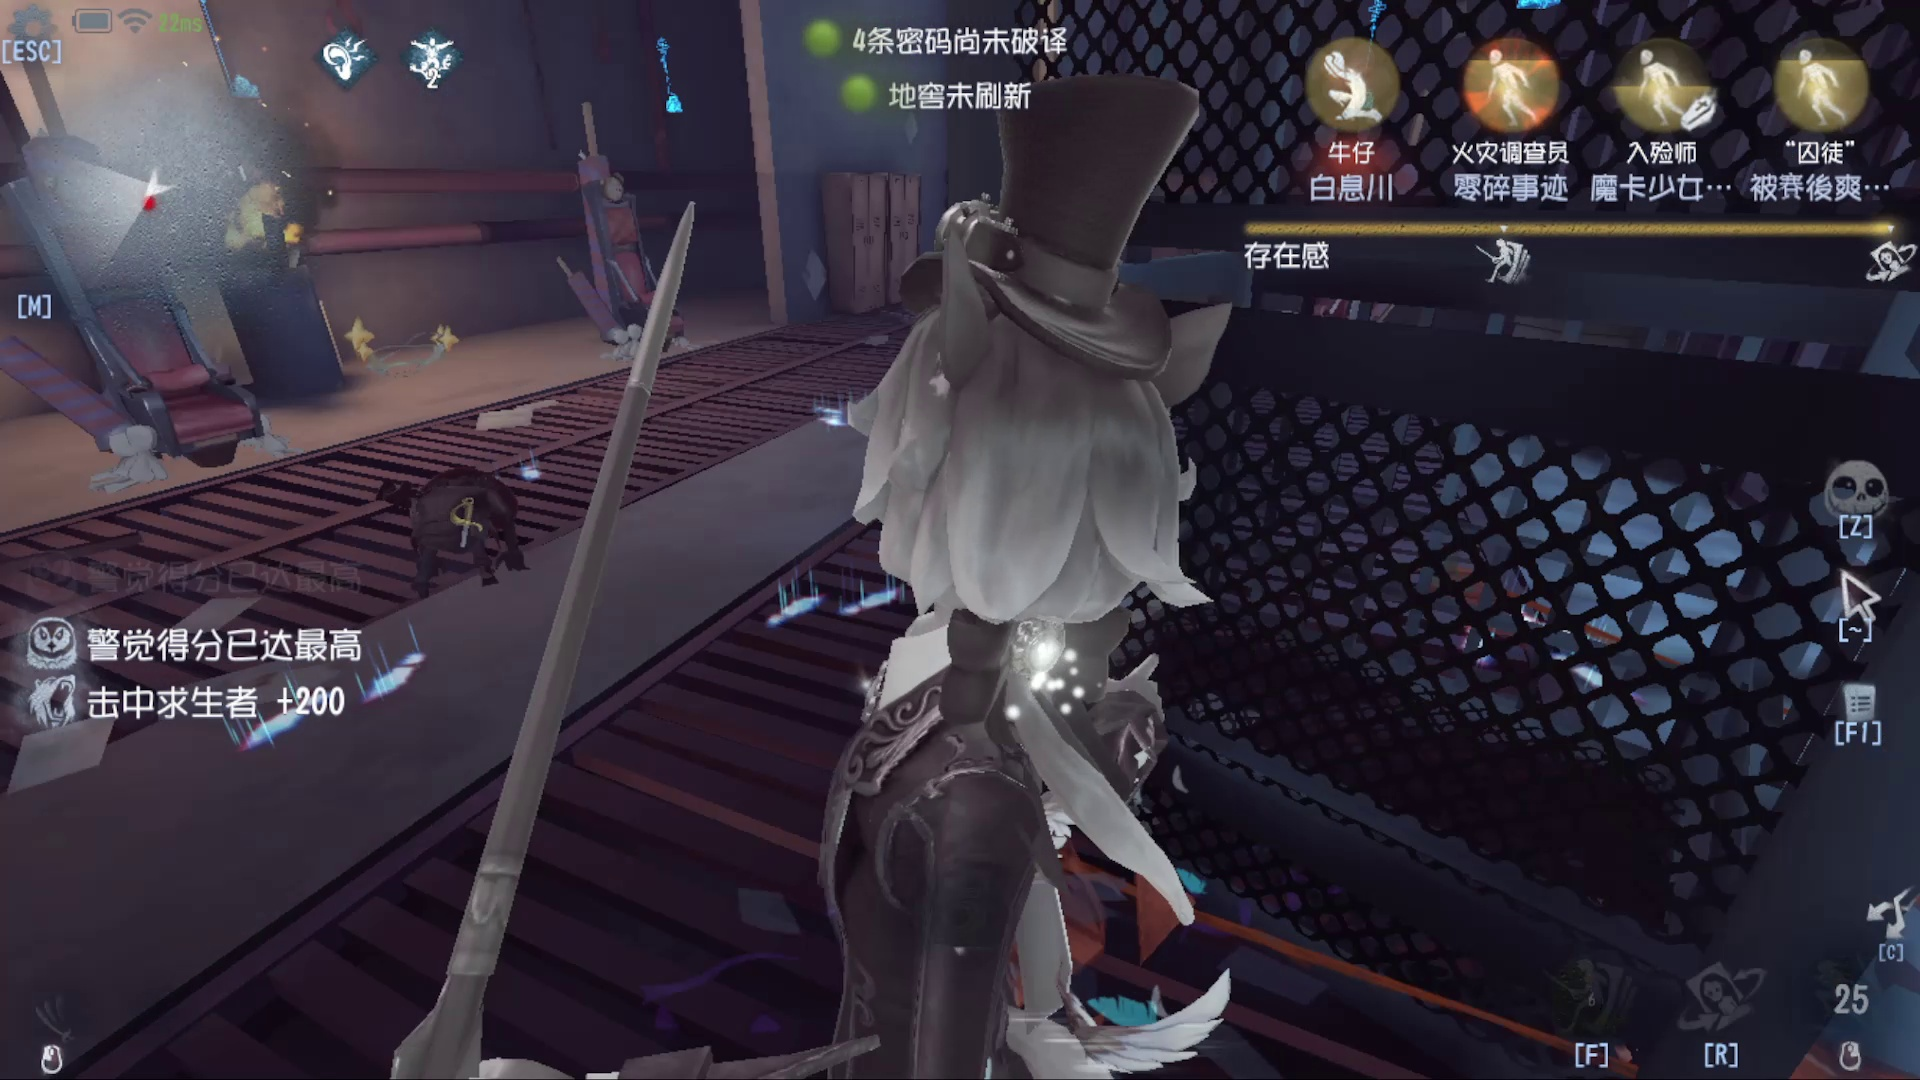求生者: (328, 444, 585, 582)
狂欢之椅: (545, 84, 680, 382)
